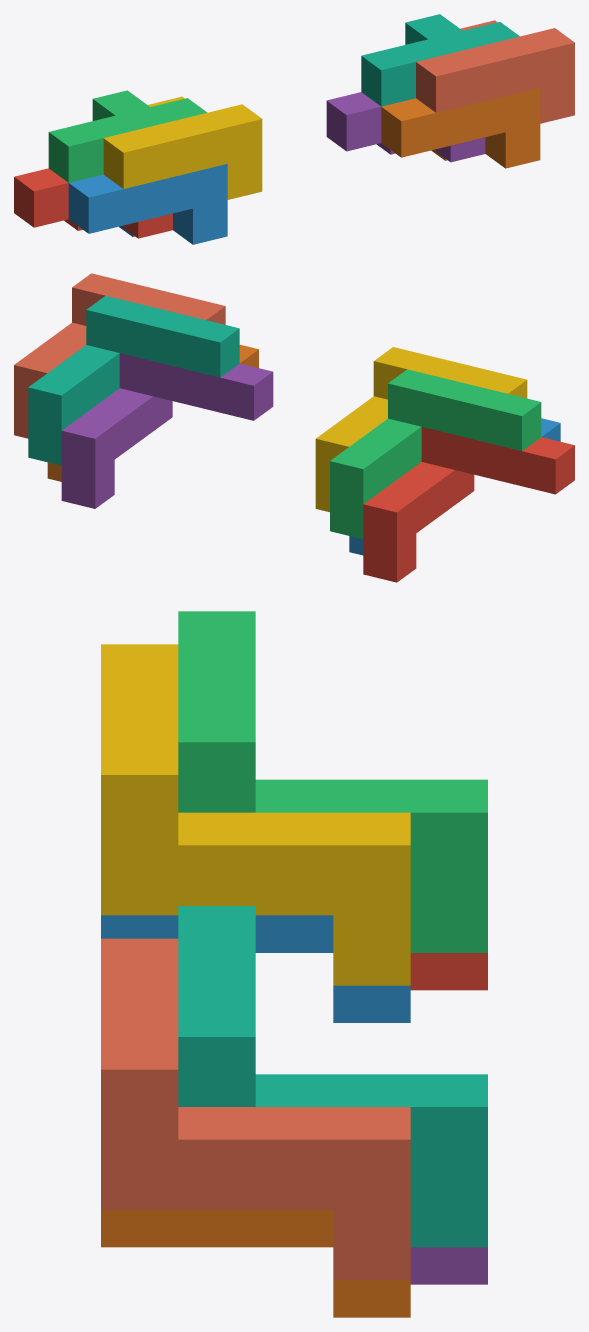
Rendered from tiling.obj.
The picture shows the model from 3 angles, top to bottom: view 1: azimuth 30°, elevation 25°; view 2: azimuth 150°, elevation 25°; view 3: azimuth 270°, elevation 25°; orthographic projection. The views are drawn at different scales.
Parts seen in each view (by area): view 1: copy_1_domain_4, copy_1_domain_8, copy_1_domain_6, copy_1_domain_2, copy_1_domain_3, copy_1_domain_7, copy_1_domain_5, copy_1_domain_1; view 2: copy_1_domain_3, copy_1_domain_7, copy_1_domain_5, copy_1_domain_1, copy_1_domain_4, copy_1_domain_8, copy_1_domain_6, copy_1_domain_2; view 3: copy_1_domain_8, copy_1_domain_4, copy_1_domain_3, copy_1_domain_7, copy_1_domain_6, copy_1_domain_2, copy_1_domain_5, copy_1_domain_1.
Boxes of the visible parts, x1,y1,x2,y2 form: copy_1_domain_4: [103, 96, 262, 199]; copy_1_domain_8: [416, 20, 574, 123]; copy_1_domain_6: [381, 87, 540, 168]; copy_1_domain_2: [68, 164, 227, 244]; copy_1_domain_3: [48, 90, 207, 182]; copy_1_domain_7: [361, 14, 519, 106]; copy_1_domain_5: [326, 92, 485, 162]; copy_1_domain_1: [14, 168, 172, 238]; copy_1_domain_3: [330, 369, 541, 539]; copy_1_domain_7: [28, 295, 239, 465]; copy_1_domain_5: [61, 353, 273, 508]; copy_1_domain_1: [363, 427, 574, 582]; copy_1_domain_4: [315, 347, 527, 512]; copy_1_domain_8: [14, 273, 225, 438]; copy_1_domain_6: [47, 344, 258, 481]; copy_1_domain_2: [349, 418, 560, 555]; copy_1_domain_8: [101, 938, 410, 1279]; copy_1_domain_4: [101, 644, 410, 985]; copy_1_domain_3: [178, 611, 487, 952]; copy_1_domain_7: [178, 906, 487, 1247]; copy_1_domain_6: [101, 1210, 410, 1317]; copy_1_domain_2: [101, 915, 410, 1022]; copy_1_domain_5: [410, 1247, 487, 1284]; copy_1_domain_1: [410, 953, 487, 990].
Bounding box in the file's own units: 15 × 4 × 5.
